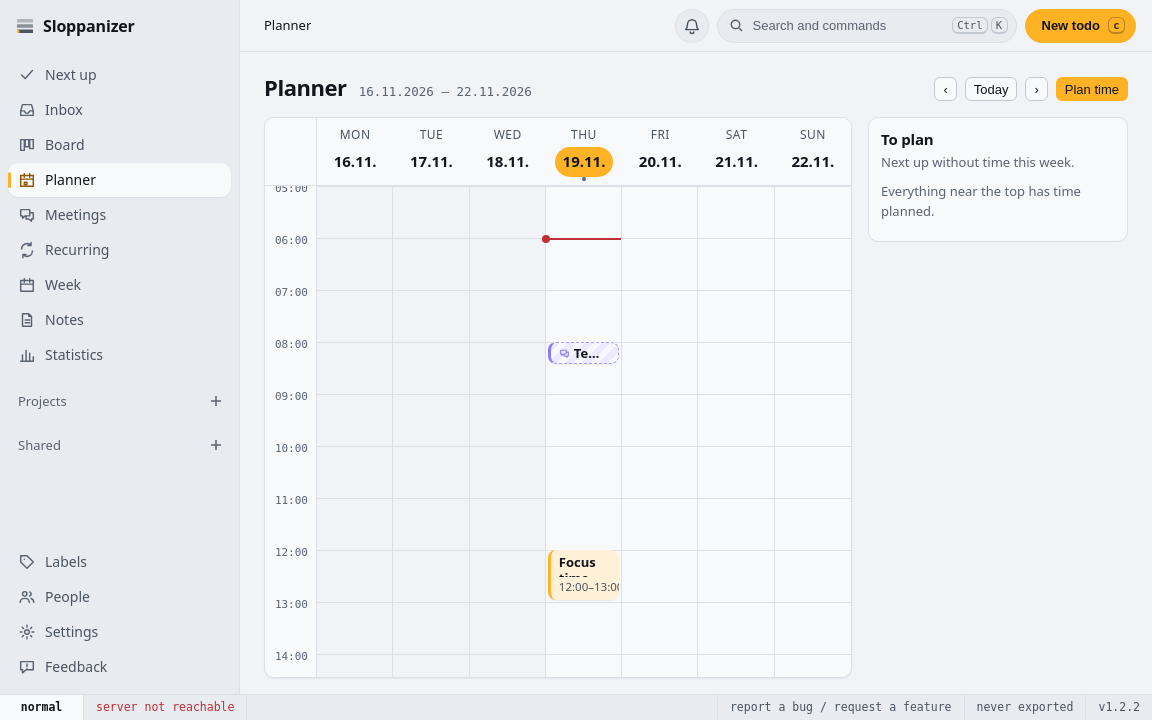
Test: meetings in the planner › asks which dates a dropped meeting is for, and Cancel puts it back
(page scrolled)
Press the mouse on the button titled "Team standup, " at coordinates (583, 353), box [548, 342, 619, 364]
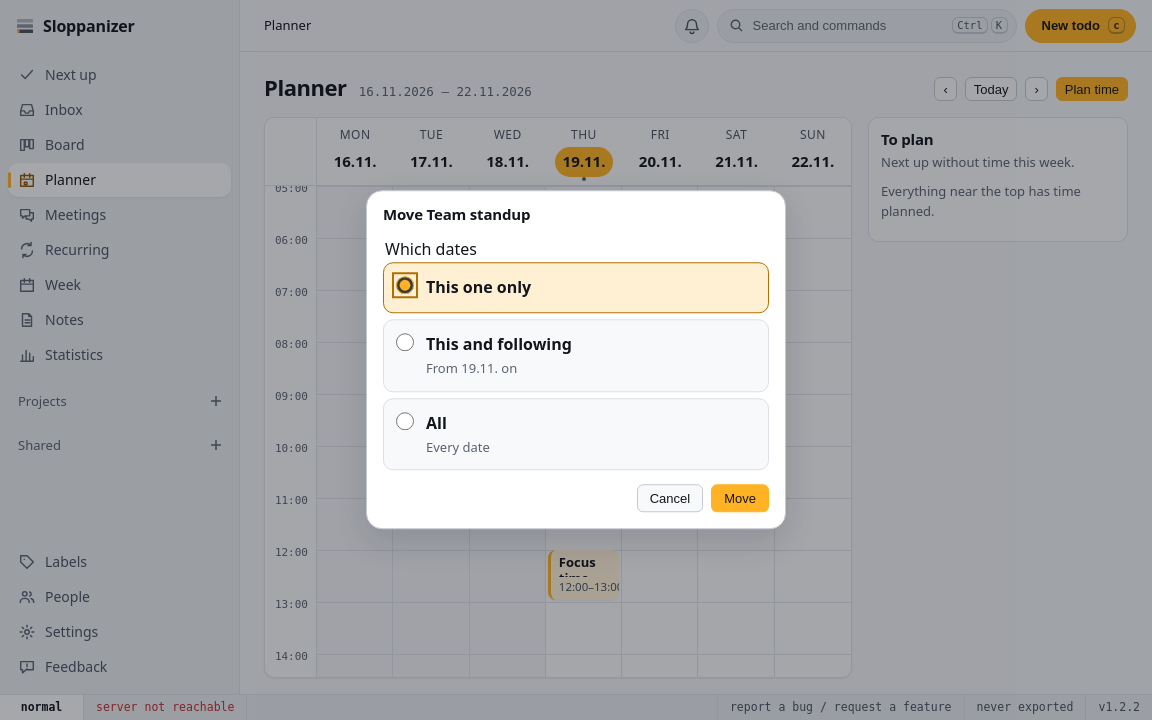
Click the button "Cancel" at coordinates (670, 499), box [637, 485, 703, 513]
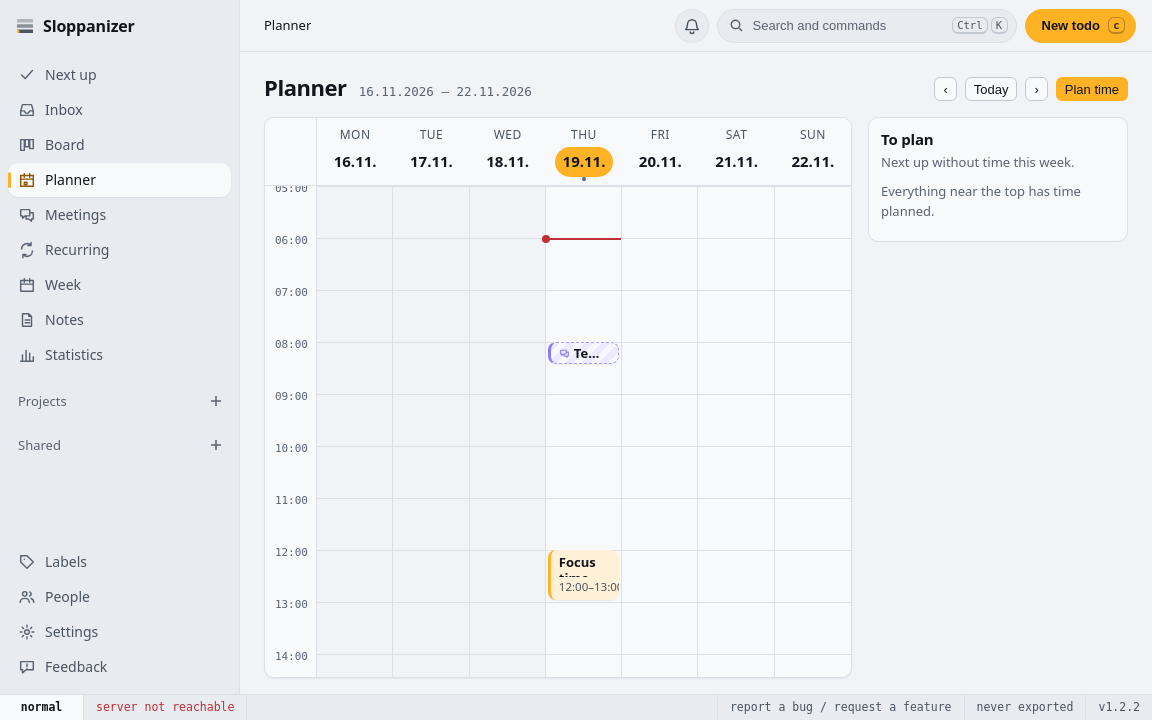
Check: the heading "Move Team standup" is gone
